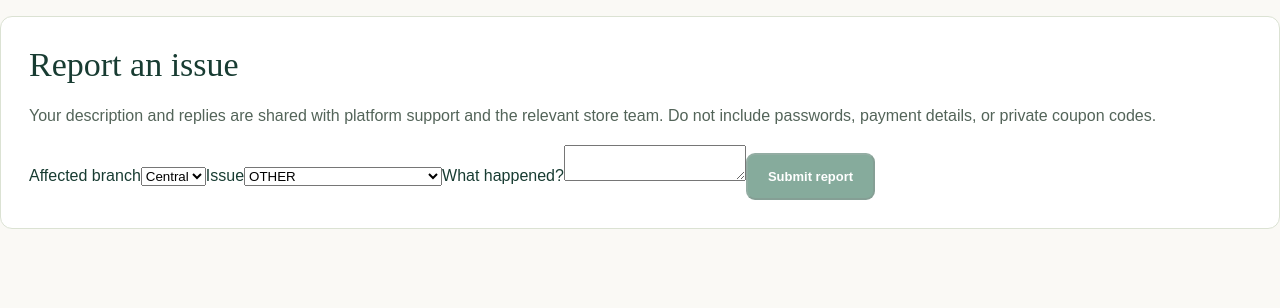
Test case: shows errors without losing the report draft
The width and height of the screenshot is (1280, 308).
Type "The listing is incorrect." into the text box labelled "What happened?" at (655, 163), box [564,145,746,181]
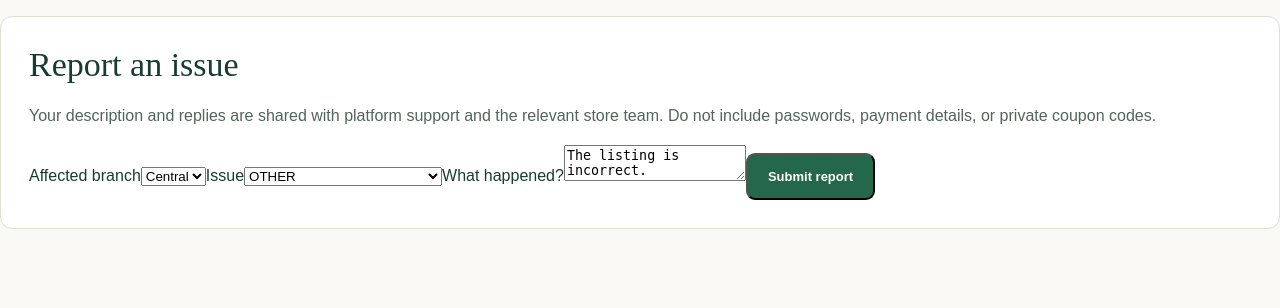
Click the button "Submit report" at (810, 176), box [746,153,875,200]
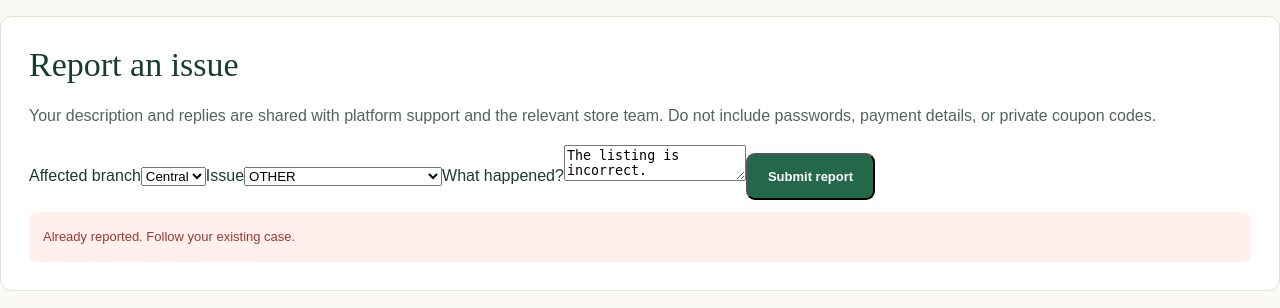
Check: the text "Already reported. Follow your existing case." is shown, box [29,212,1251,262]
